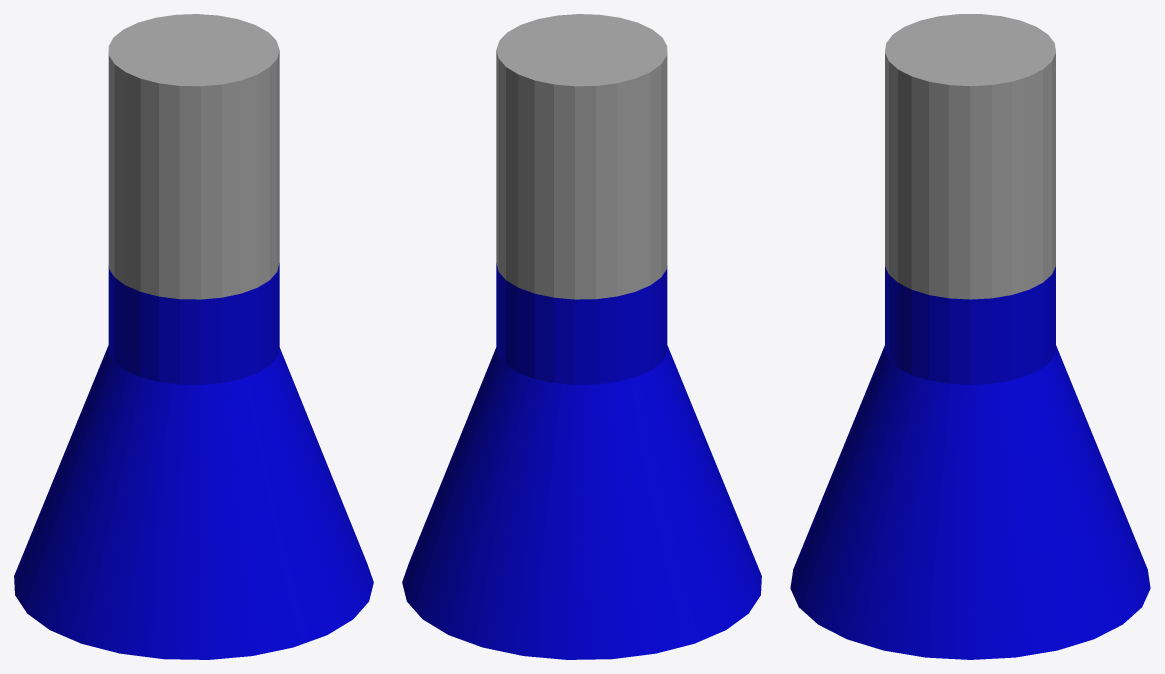
The model's file is BlueTestTube.fbx.
The picture shows the model from 3 angles, left to right: view 1: azimuth 30°, elevation 25°; view 2: azimuth 150°, elevation 25°; view 3: azimuth 270°, elevation 25°; orthographic projection.
Parts seen in each view (by area): view 1: pCylinder1; view 2: pCylinder1; view 3: pCylinder1.
Boxes of the visible parts, x1,y1,x2,y2 form: pCylinder1: (14,14,373,659); pCylinder1: (402,14,761,659); pCylinder1: (790,14,1150,659).
Bounding box in the file's own units: 16.55 × 27.12 × 16.58.
